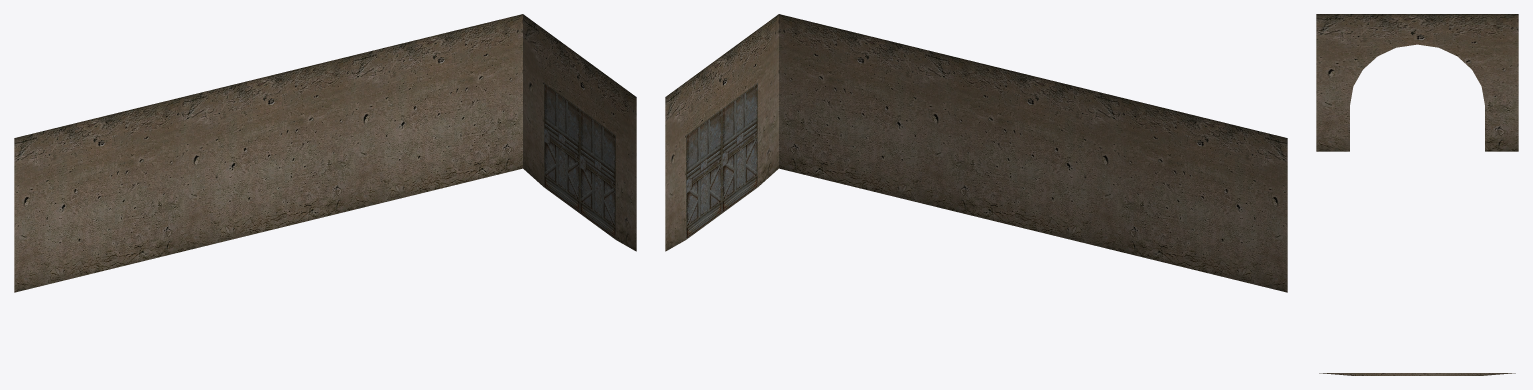
File: M11Z1_TownWall062.glb
3 views of the same model, side by side, from view 1: azimuth 30°, elevation 25°; view 2: azimuth 150°, elevation 25°; view 3: azimuth 270°, elevation 25° (orthographic). The views are drawn at different scales.
Visible parts, largest first — view 1: M11Z1_TOWNWALL062; view 2: M11Z1_TOWNWALL062; view 3: M11Z1_TOWNWALL062.
Boxes of the visible parts, left/top/right/bottom form: M11Z1_TOWNWALL062: left=14, top=14, right=636, bottom=292; M11Z1_TOWNWALL062: left=665, top=14, right=1287, bottom=292; M11Z1_TOWNWALL062: left=1316, top=14, right=1518, bottom=375.
Bounding box in the file's own units: 31 × 9.2 × 12.
2 materials, 2 textured.
